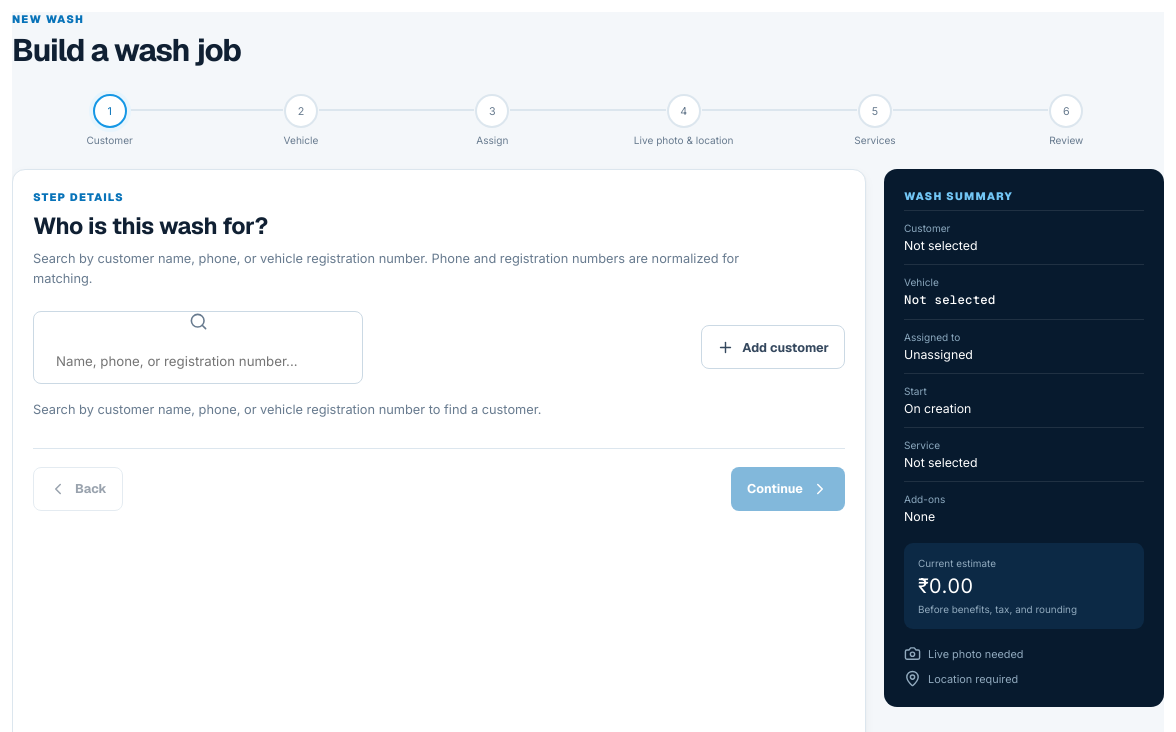
New Wash — staff customer search privacy › entering a phone number displays matching results
Type "9876" into the search field with placeholder "Name, phone, or registration number..." at (198, 361), box left=45, top=339, right=351, bottom=383
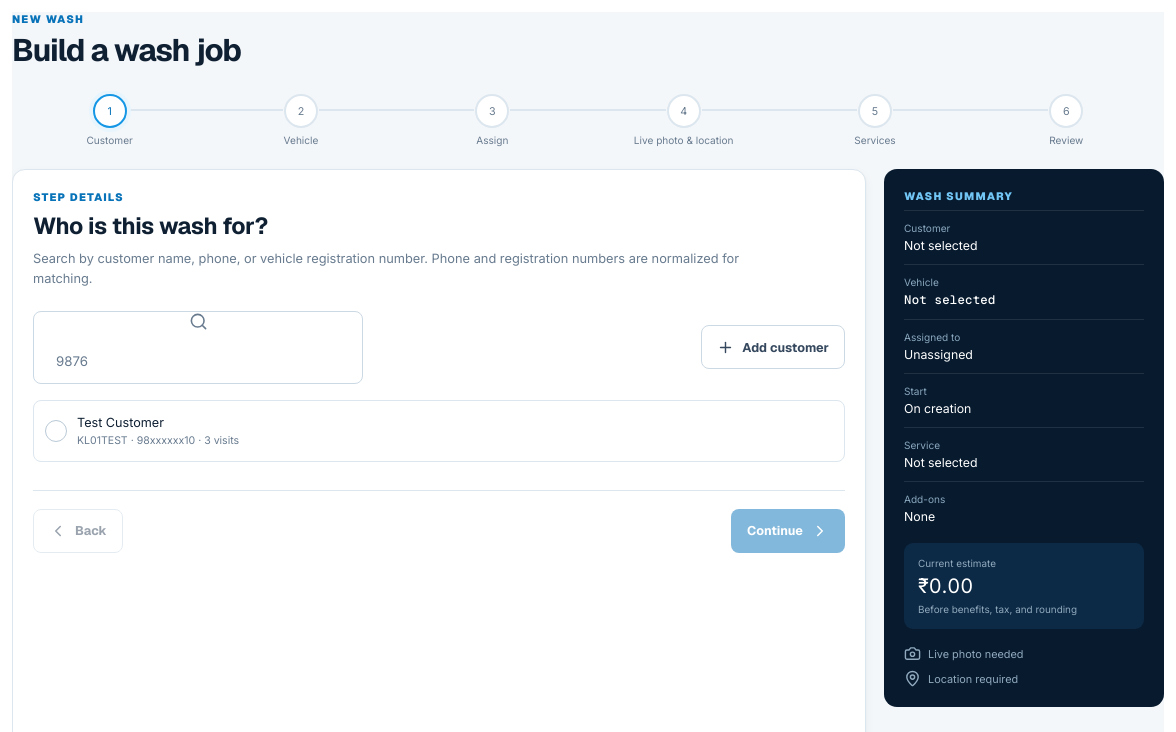
Result: the text "Test Customer" is shown at left=77, top=415, right=164, bottom=430
